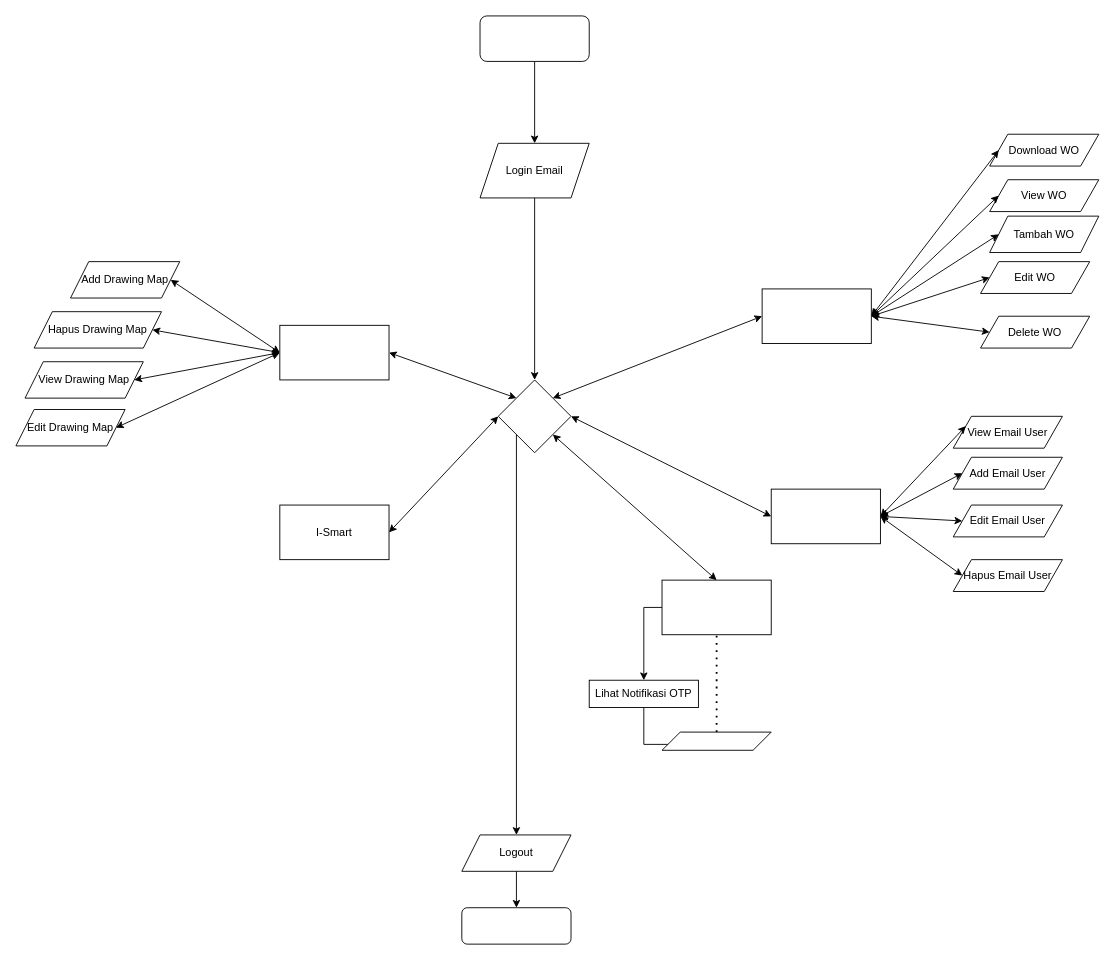
The diagram is 1115 pixels wide and 960 high, and some of its shapes have lost their labels. Here are the shapes that lost their labels. From the top down, the centre of each, then its label:
At pixel 534 38: "Start".
At pixel 816 316: "Survey".
At pixel 334 352: "Drawing (PDF Reader)".
At pixel 534 416: "Main Page".
At pixel 825 516: "Profile".
At pixel 716 607: "Notifikasi".
At pixel 716 740: "Konfirmasi OTP".
At pixel 516 925: "End".
